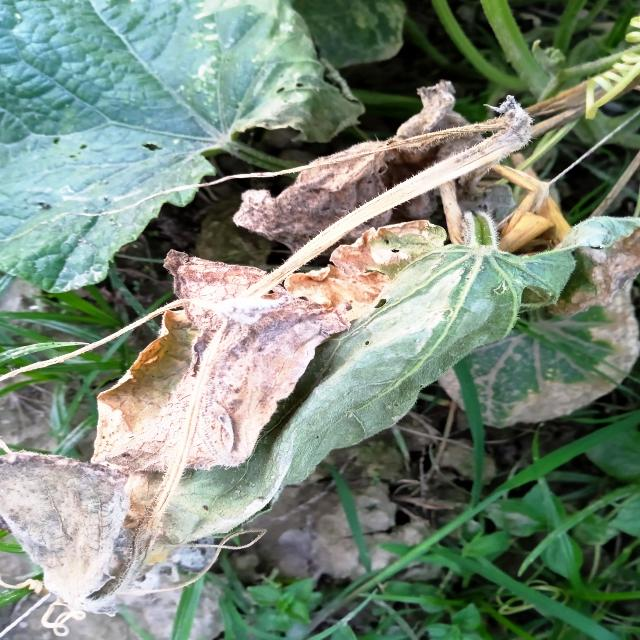Bacterial-Wilt: (89, 221, 449, 473), (229, 79, 476, 259), (1, 451, 217, 617)
